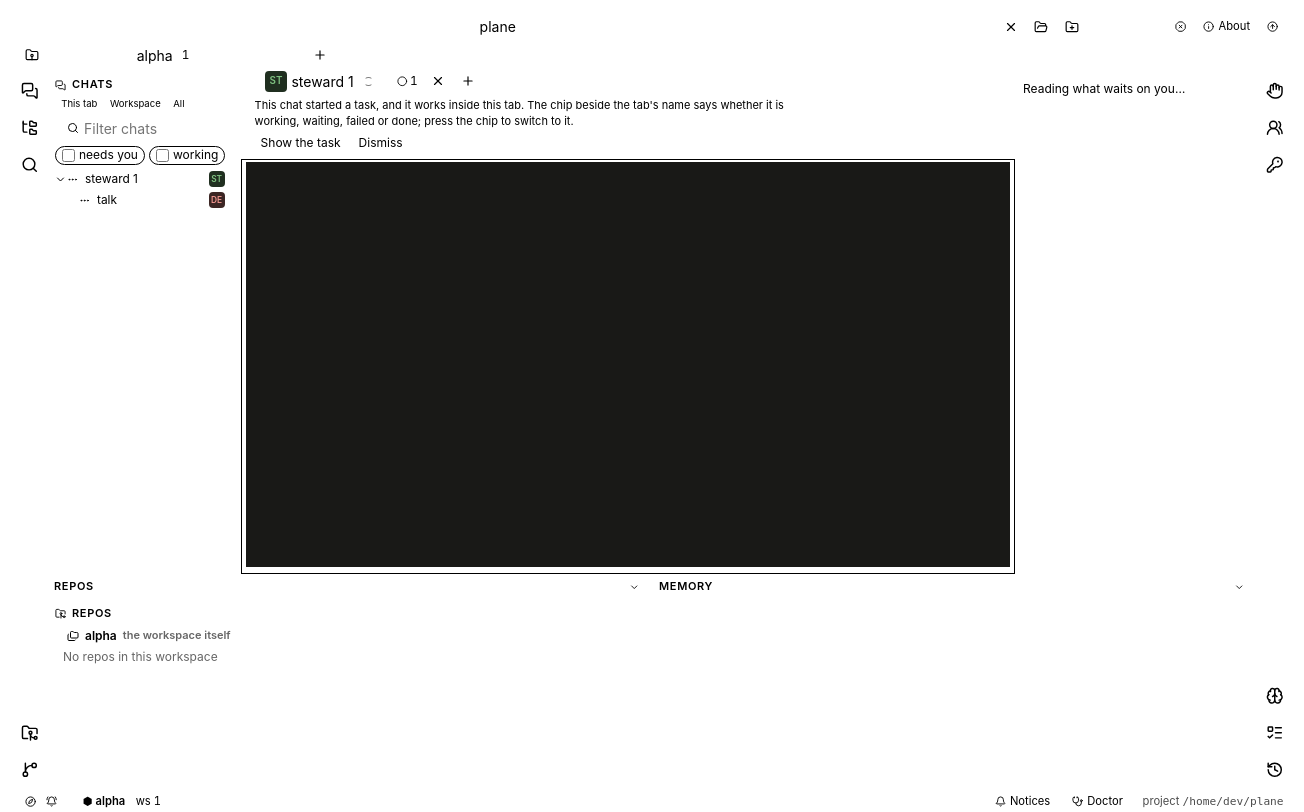
Test: the first dispatch on a machine explains the chip (#1501) › goes on its own action, which opens the chip's menu, and is not shown again
Click the button "Show the task" at (301, 144), box [255,133,347,154]
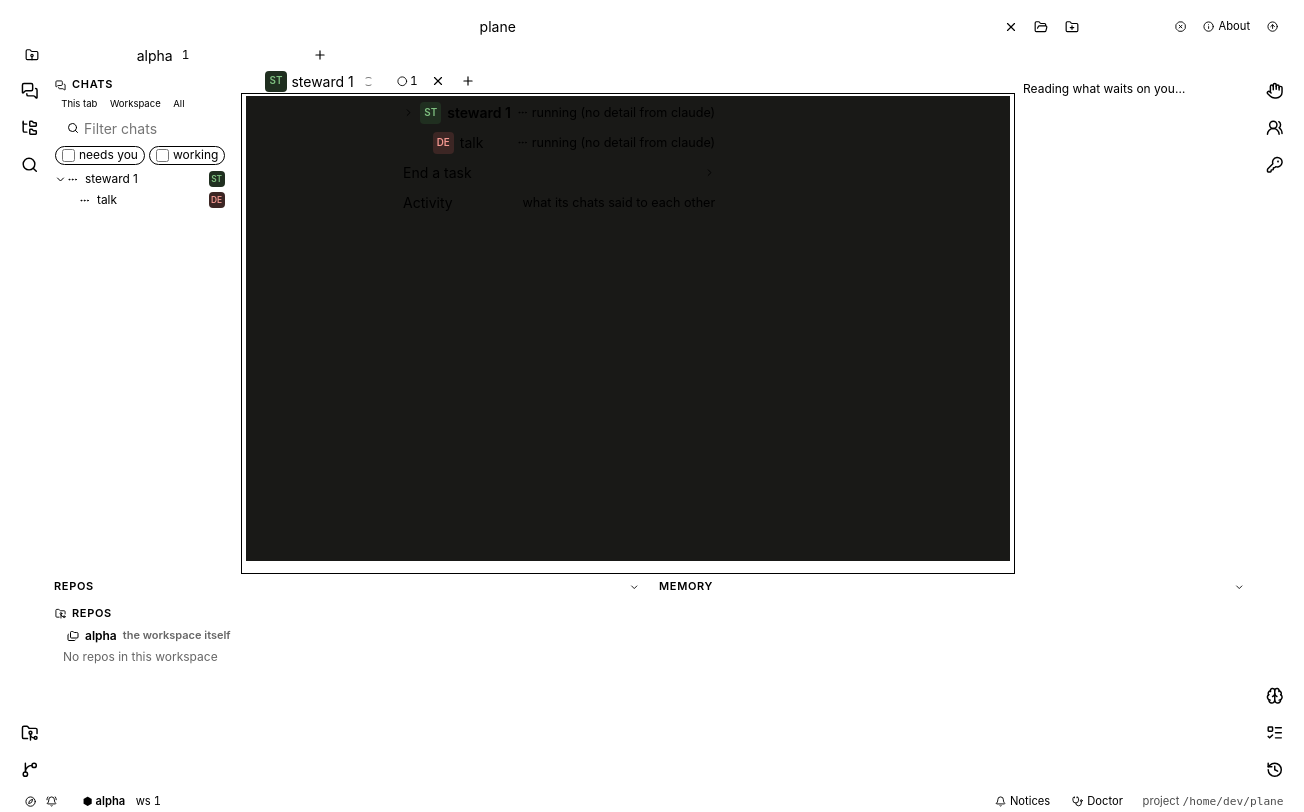
Now the menu named "Tasks of " is shown, box [393,95,725,221]
